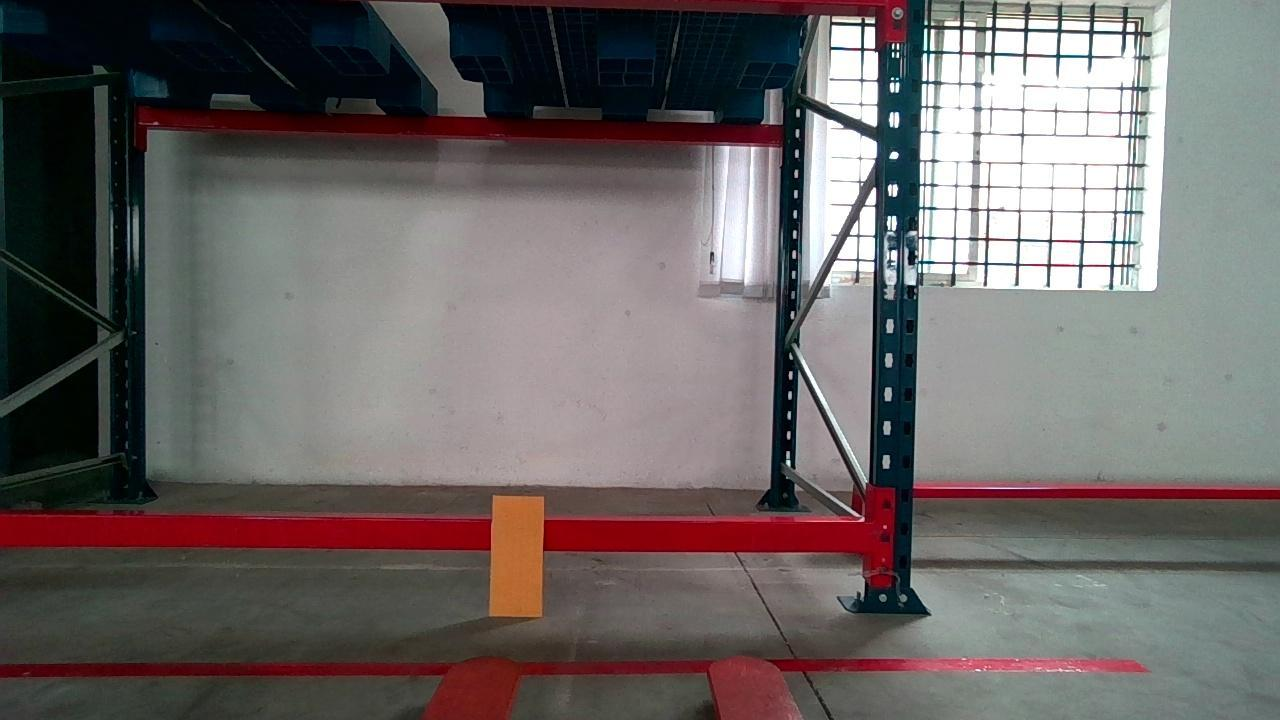h_rack: (0, 513, 877, 554)
orange_strip: (491, 494, 545, 617)
red_line: (1, 657, 1152, 676)
